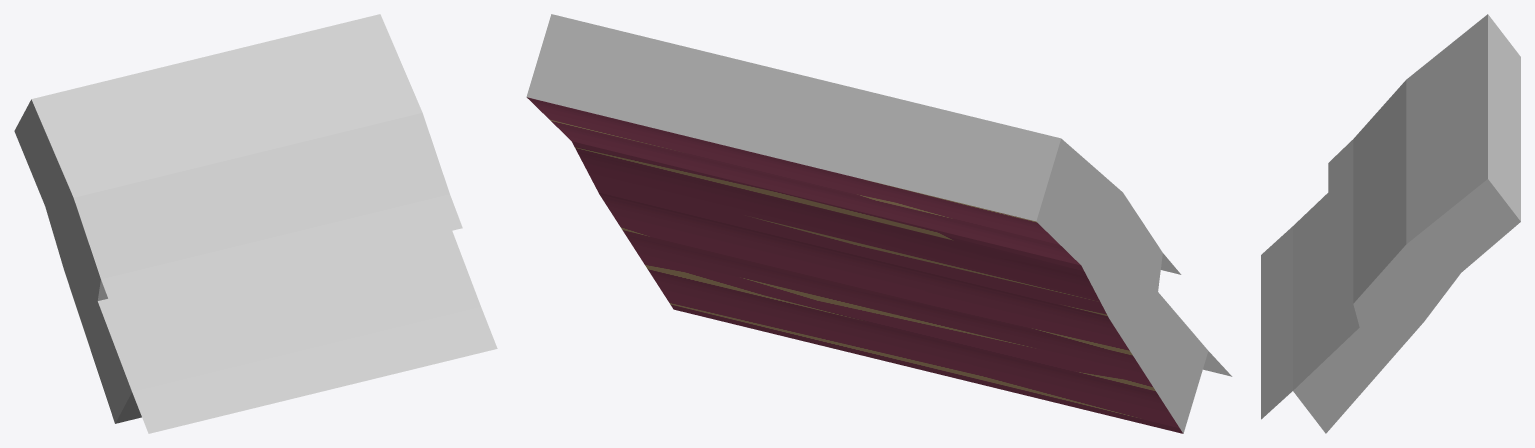
The model's file is SM_Bld_Roof_Thatch_S_01.fbx.
The picture shows the model from 3 angles, left to right: view 1: azimuth 30°, elevation 25°; view 2: azimuth 150°, elevation 25°; view 3: azimuth 270°, elevation 25°; orthographic projection. The views are drawn at different scales.
Parts seen in each view (by area): view 1: SM_Bld_Roof_Thatch_S_01; view 2: SM_Bld_Roof_Thatch_S_01; view 3: SM_Bld_Roof_Thatch_S_01.
Part boxes in pixels (x1,y1,x2,y2): SM_Bld_Roof_Thatch_S_01: [14, 14, 497, 433]; SM_Bld_Roof_Thatch_S_01: [526, 14, 1232, 433]; SM_Bld_Roof_Thatch_S_01: [1261, 14, 1520, 433].
Size of the model in its own units: 250 by 180 by 167.
